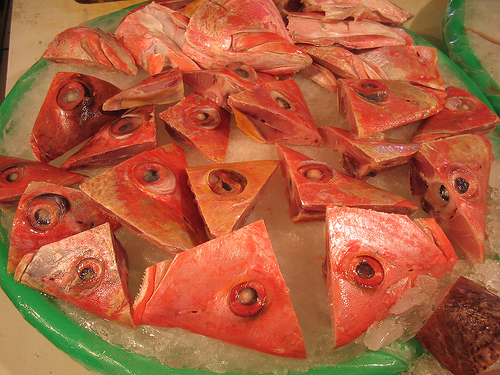fish: (1, 1, 498, 374)
